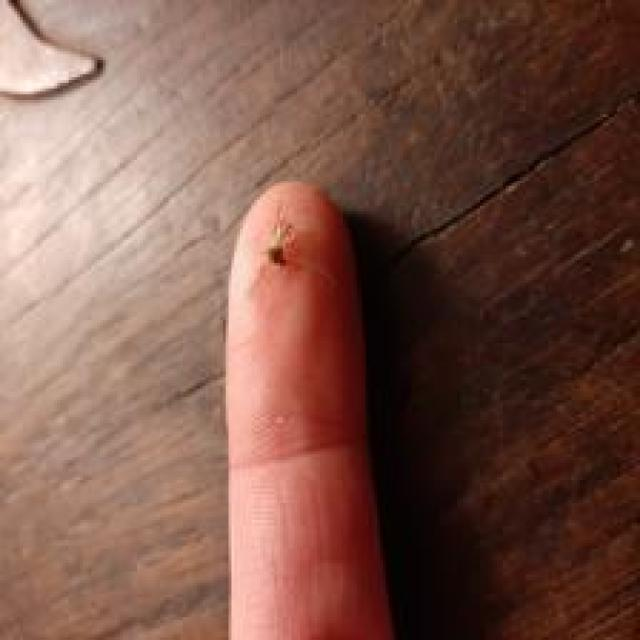Culex: (0, 0, 103, 100)
